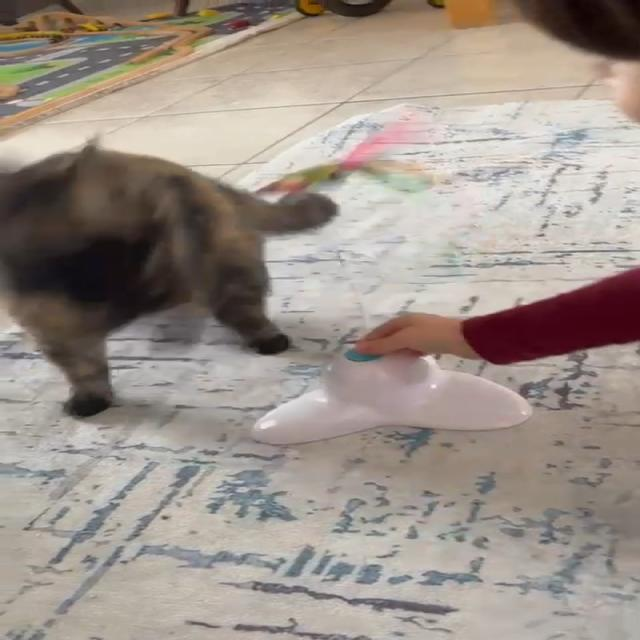authorized: (0, 134, 339, 418)
